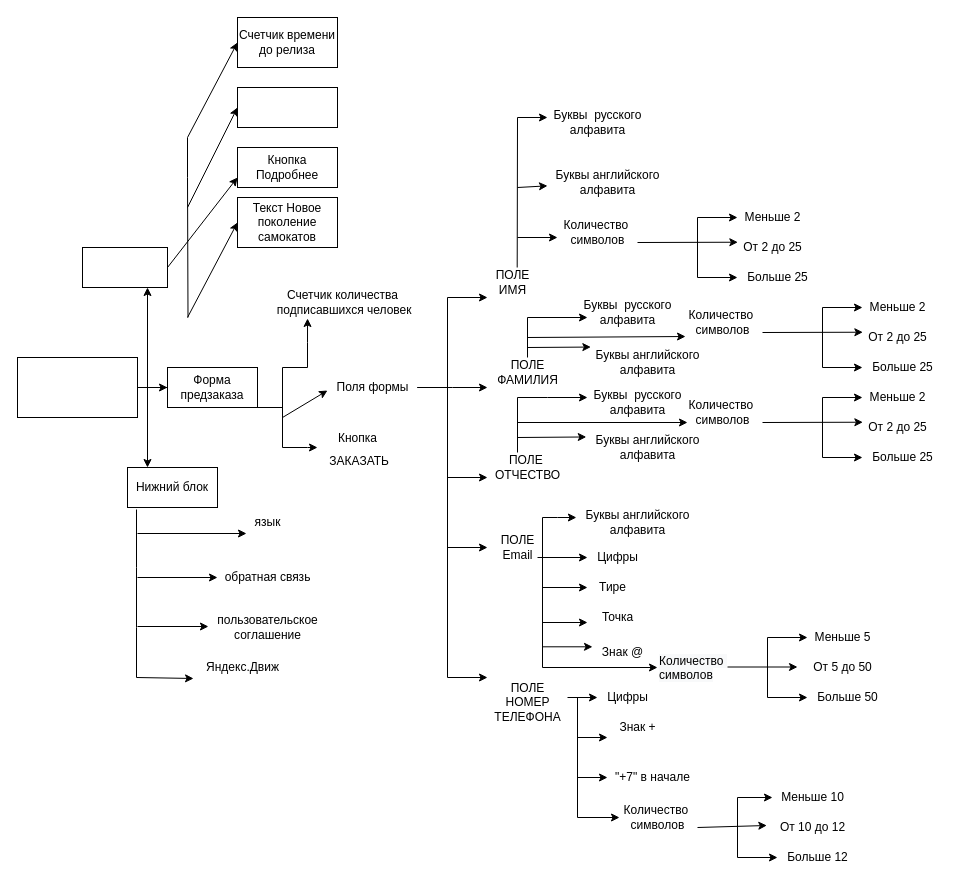
The diagram is 960 pixels wide and 885 high, and some of its shapes have lost their labels. The centre of each missing label's shape, as x and y in pixels:
"Верхний блок" belongs at (x=125, y=267).
"Кнопка Предзаказ" belongs at (x=287, y=107).
"Промо-страница Яндекс.Самоката" belongs at (x=77, y=387).
